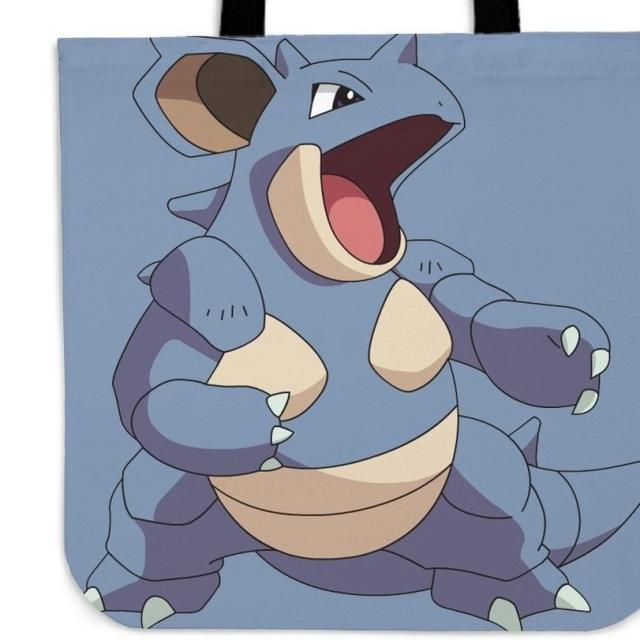Nidoqueen: (82, 34, 553, 632)
